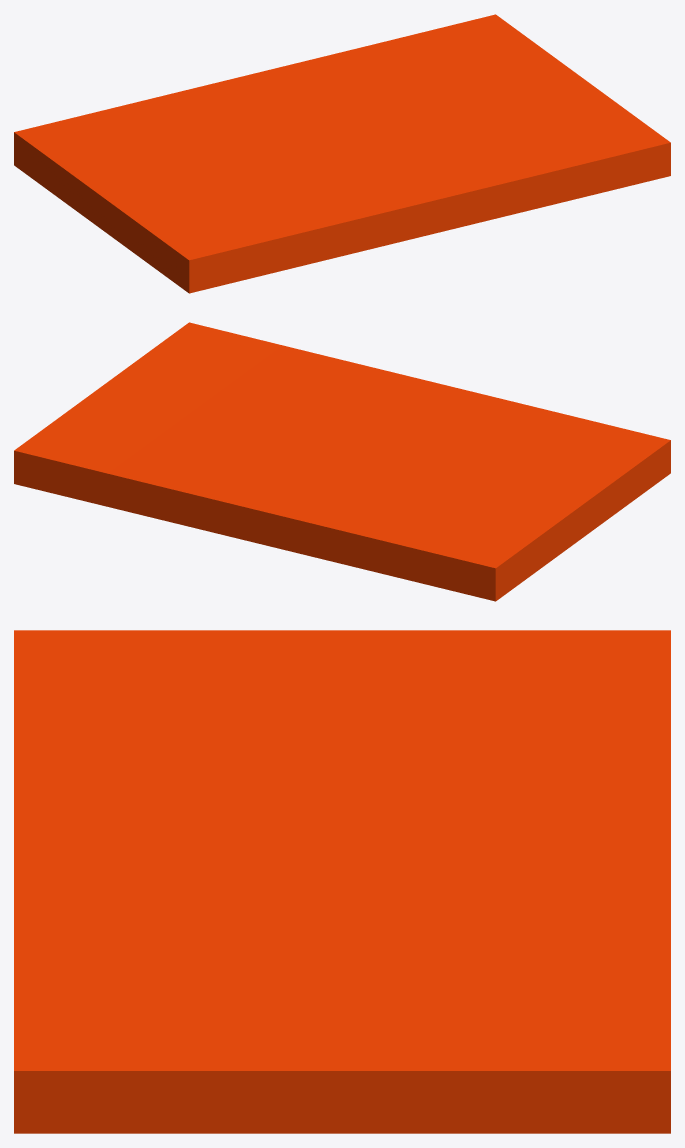
The model's file is level13.fbx.
3 renders of one model, top to bottom at view 1: azimuth 30°, elevation 25°; view 2: azimuth 150°, elevation 25°; view 3: azimuth 270°, elevation 25°, orthographic. The views are drawn at different scales.
Parts seen in each view (by area): view 1: Ground.015; view 2: Ground.015; view 3: Ground.015.
Part boxes in pixels (box(x1,y1,x2,y2)): Ground.015: box(14, 14, 670, 293); Ground.015: box(14, 322, 670, 601); Ground.015: box(14, 630, 670, 1133).
Bounding box in the file's own units: 7326 × 485 × 4613.
